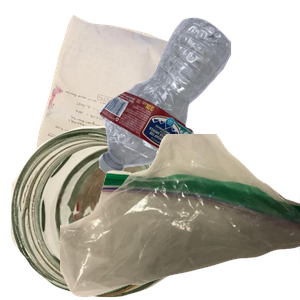glass: (10, 126, 220, 300)
paper: (33, 12, 214, 192)
plastic: (96, 15, 300, 184)
trash: (60, 134, 300, 300)
